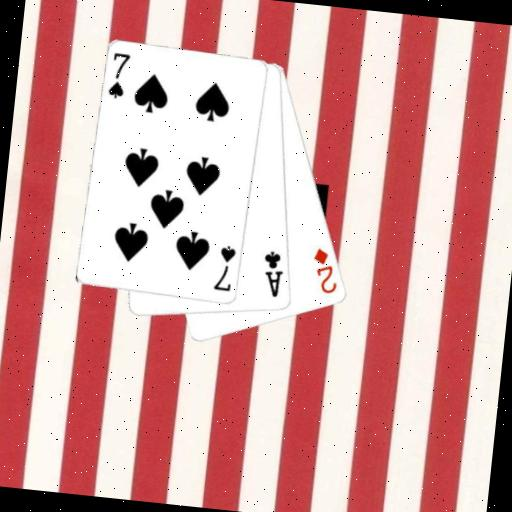2D: (307, 244, 343, 297)
7S: (105, 49, 133, 102), (211, 242, 239, 294)
AC: (258, 248, 288, 300)
